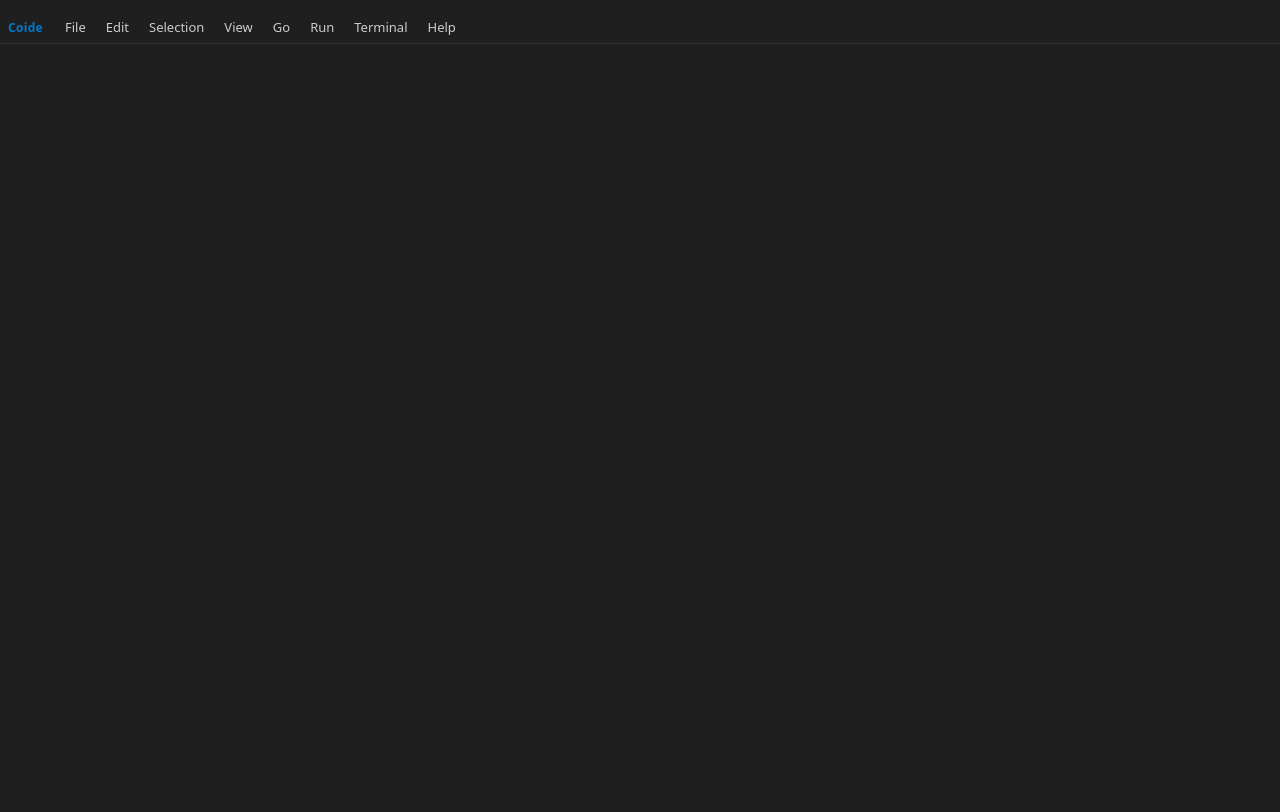
Scenario: IDE Shell › Menu closes on outside click
Click the button "File". click: click(75, 28)
box: x1=55 y1=16 x2=96 y2=39
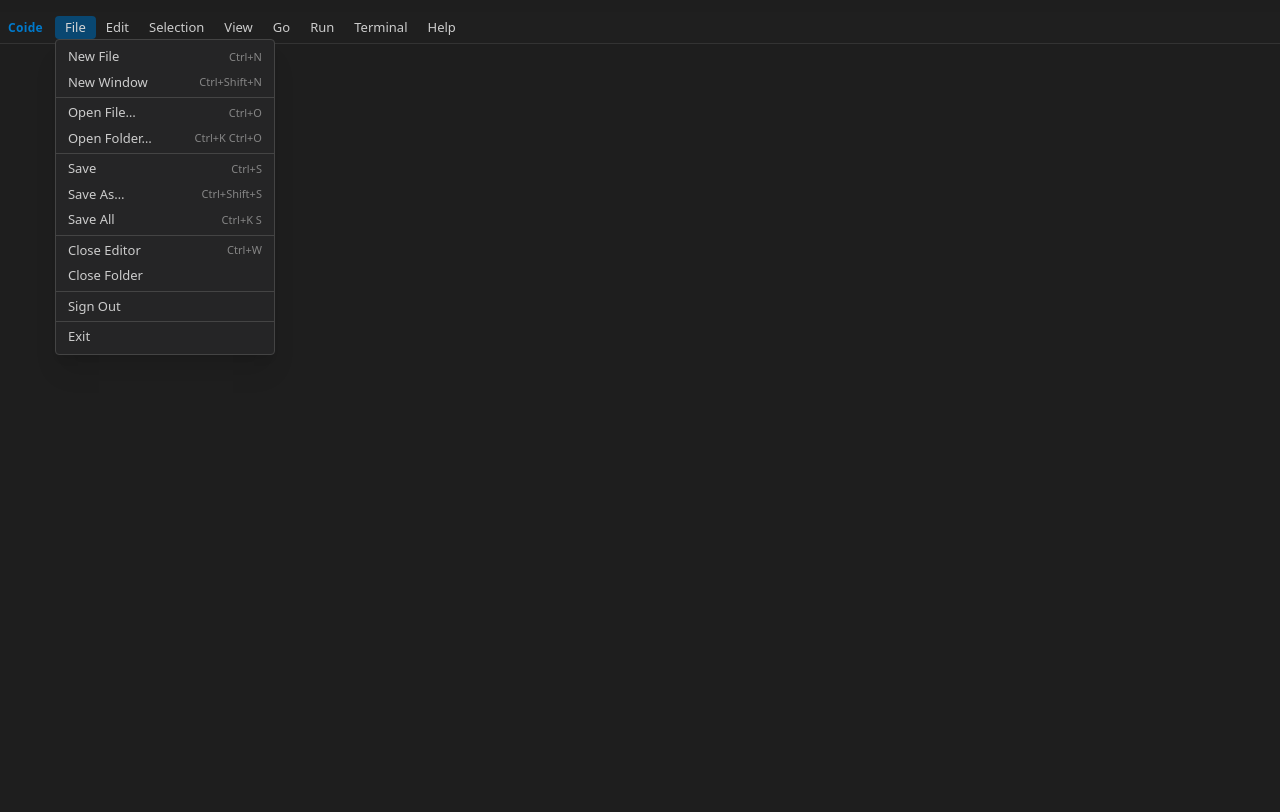
Check: the text "New File" is shown, box x1=68 y1=47 x2=119 y2=65
Press the mouse on the element that starts with "Coide" at (640, 412), box x1=0 y1=12 x2=1279 y2=811
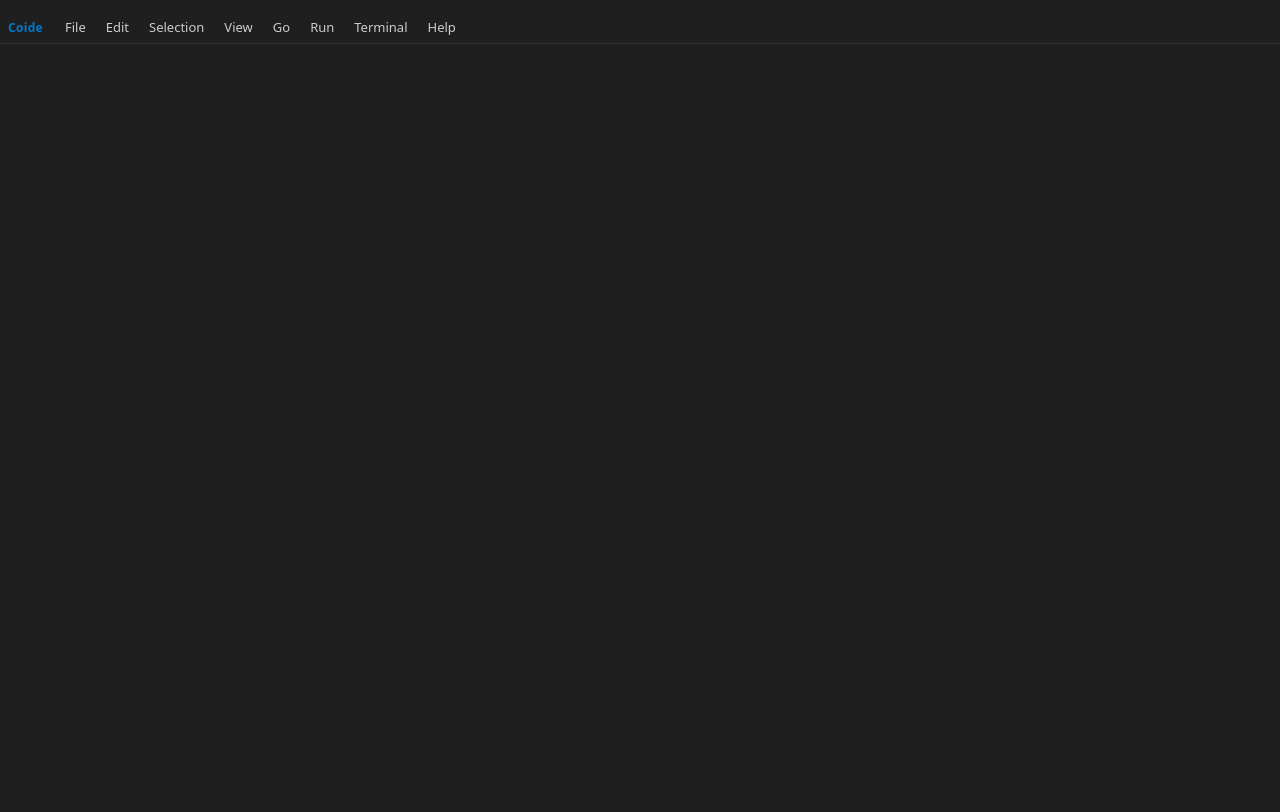
Check: the button "New File" is gone
